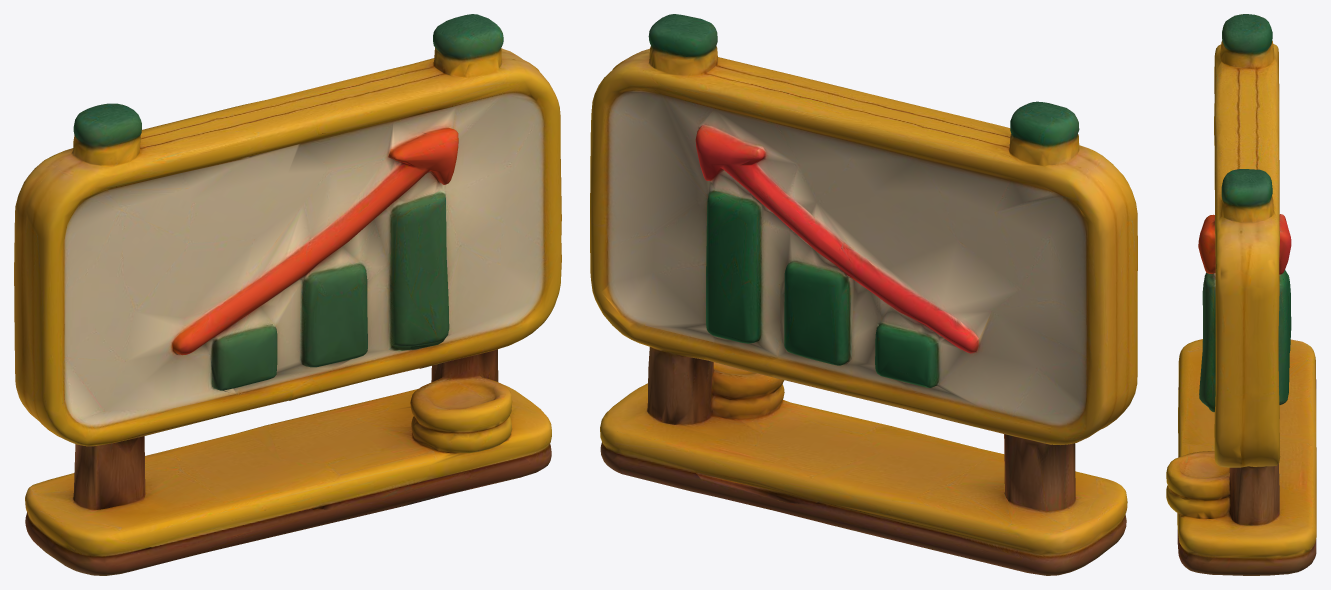
The model's file is icon-stock.glb.
3 renders of one model, left to right at view 1: azimuth 30°, elevation 25°; view 2: azimuth 150°, elevation 25°; view 3: azimuth 270°, elevation 25°, orthographic. The views are drawn at different scales.
Parts seen in each view (by area): view 1: Mesh_0; view 2: Mesh_0; view 3: Mesh_0.
Boxes of the visible parts, left/top/right/bottom form: Mesh_0: left=14, top=14, right=561, bottom=575; Mesh_0: left=590, top=14, right=1137, bottom=575; Mesh_0: left=1166, top=14, right=1316, bottom=575.
Size of the model in its own units: 2 by 1.6 by 0.575.
Materials: 1 (1 with a texture image).
